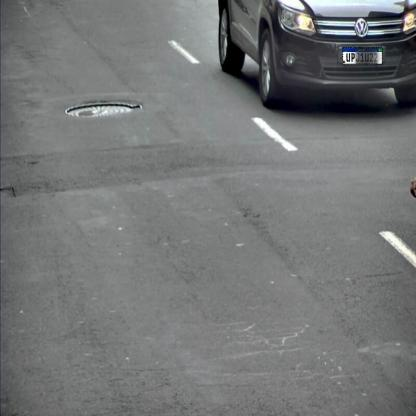PlacaM: (342, 47, 383, 65)
